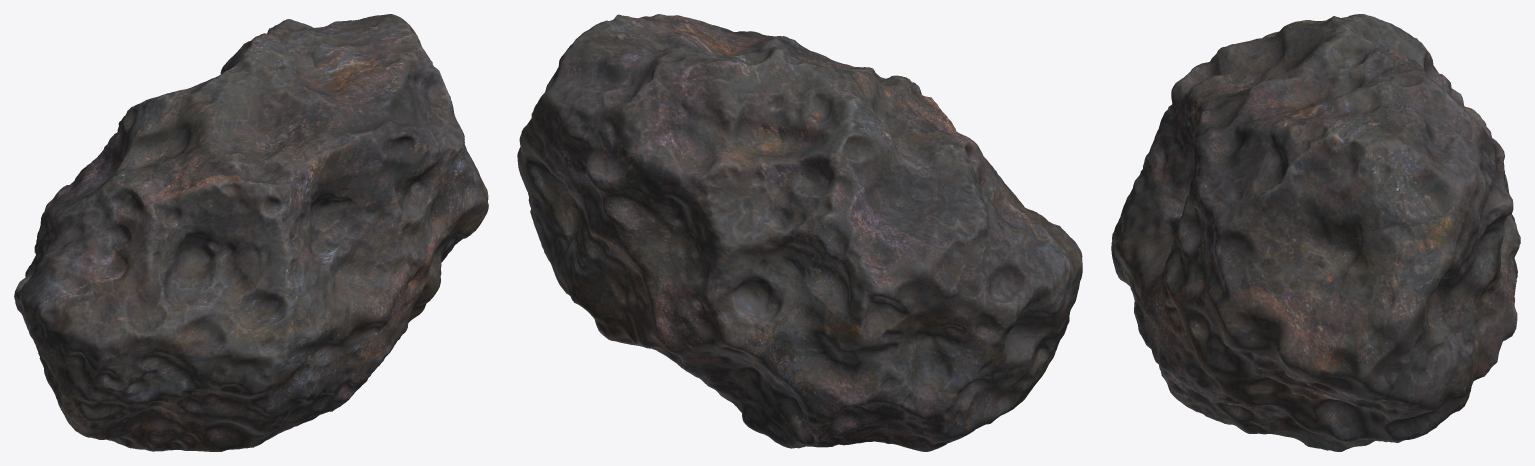
The model's file is Asteroid_1_LOW_MODEL_.fbx.
3 renders of one model, left to right at view 1: azimuth 30°, elevation 25°; view 2: azimuth 150°, elevation 25°; view 3: azimuth 270°, elevation 25°, orthographic. The views are drawn at different scales.
Visible parts, largest first — view 1: Asteroid_1_.001; view 2: Asteroid_1_.001; view 3: Asteroid_1_.001.
Part boxes in pixels (x1,y1,x2,y2): Asteroid_1_.001: [14, 14, 488, 451]; Asteroid_1_.001: [517, 14, 1082, 451]; Asteroid_1_.001: [1111, 14, 1520, 451].
Size of the model in its own units: 2903 by 2065 by 1838.
